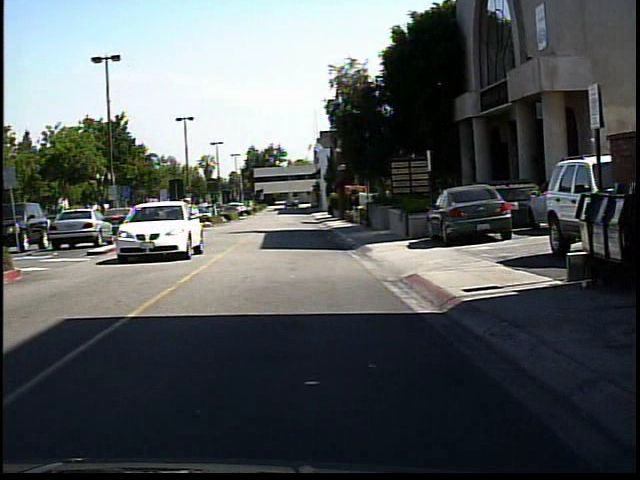person: (174, 192, 200, 249)
